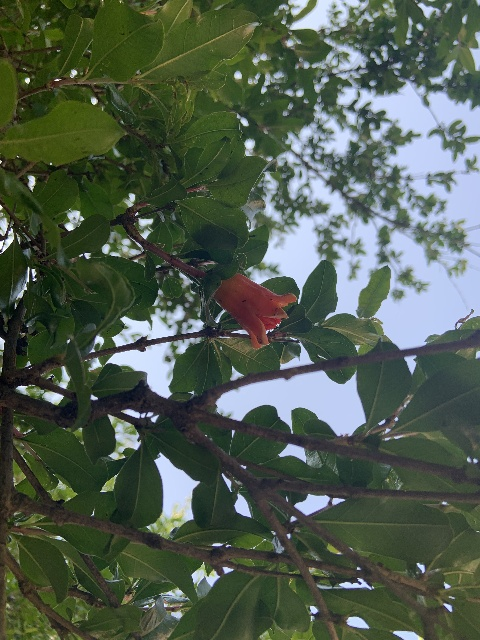flower: (213, 272, 296, 349)
